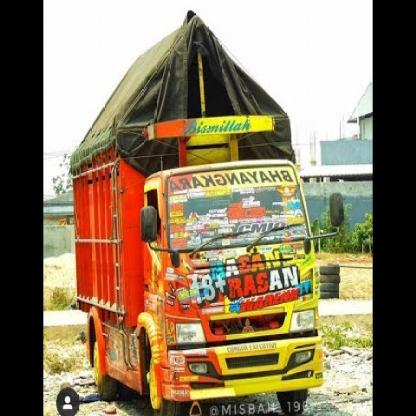truck: (71, 8, 344, 416)
